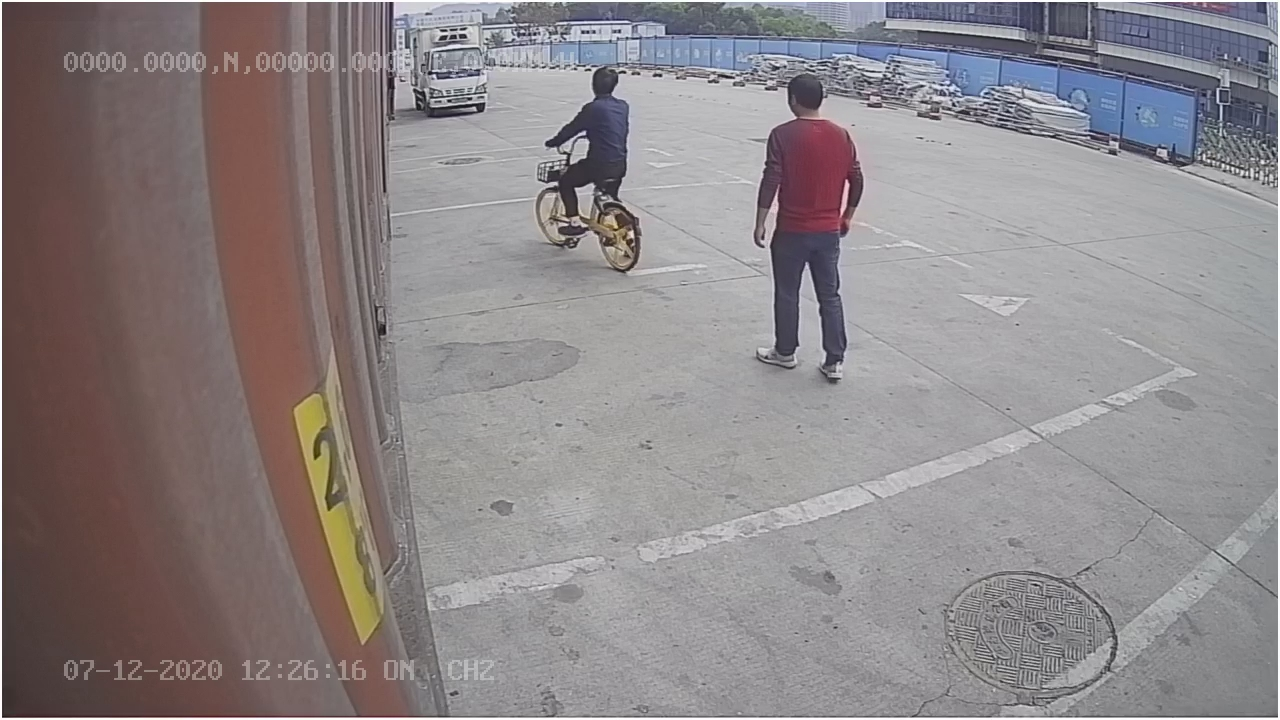person: (744, 71, 870, 384)
